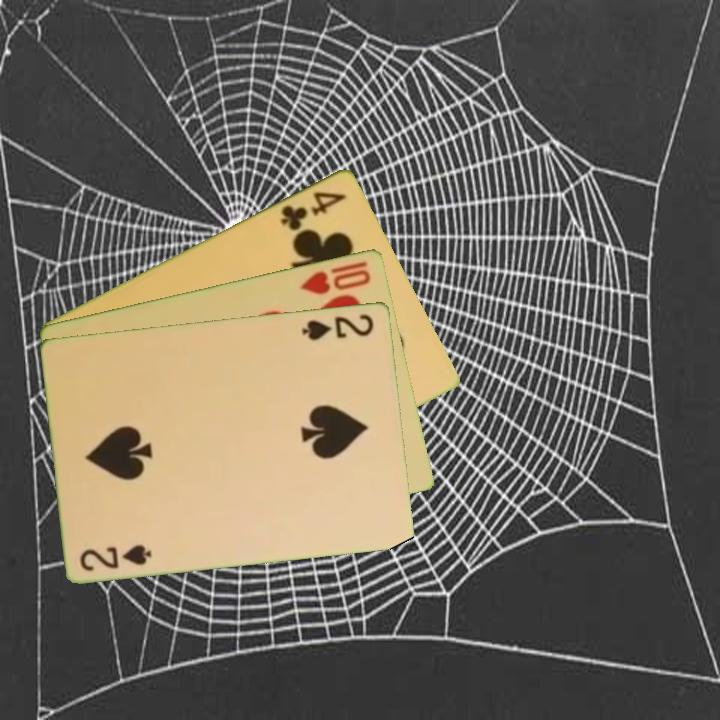10h: (297, 257, 374, 297)
2s: (77, 540, 155, 574), (299, 310, 377, 343)
4c: (277, 187, 350, 234)
